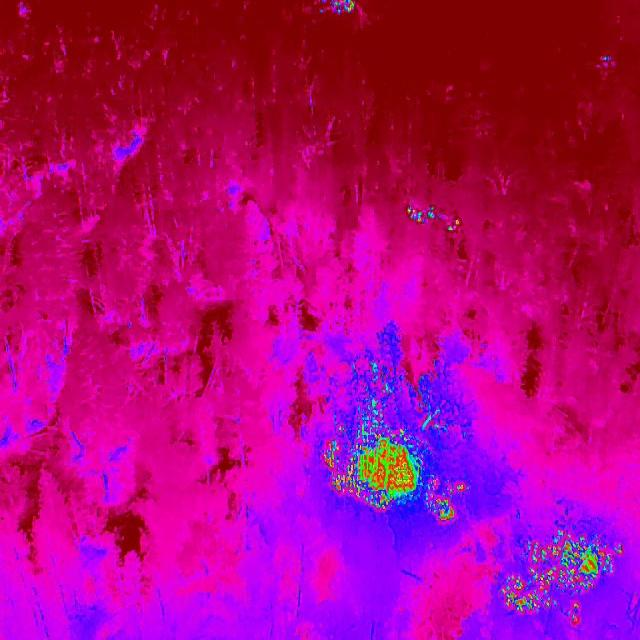fire: (321, 404, 468, 525), (496, 528, 626, 626), (405, 202, 462, 234), (316, 0, 361, 19)
